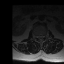CCS_normal: (39, 33, 41, 41)
LFS_stenosis: (43, 33, 45, 39)
LLS_normal: (41, 33, 43, 40)
RFS_normal: (35, 34, 37, 40)
RLS_normal: (37, 34, 39, 40)
